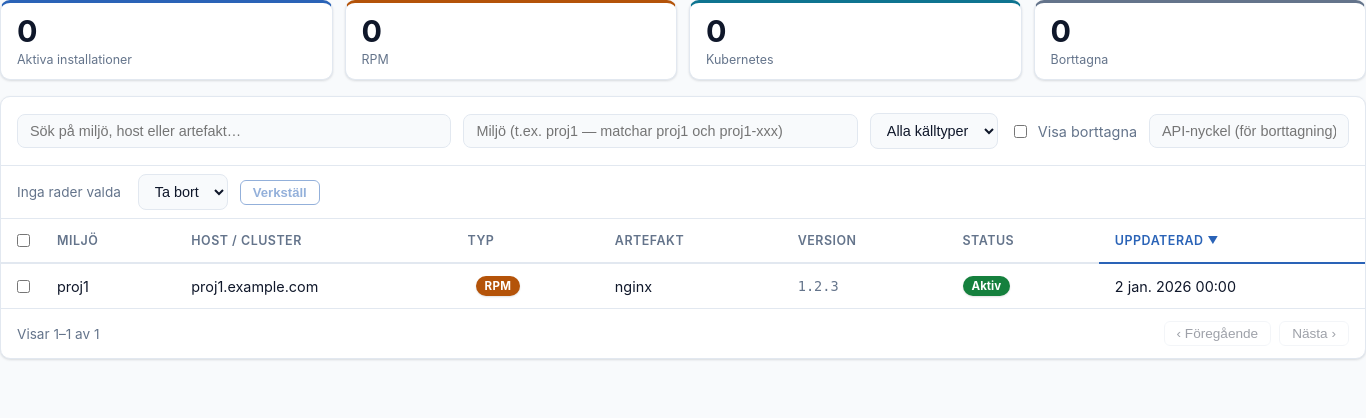
Test: InstallationsTable › requires an API key before allowing a delete
Expected: the text "nginx" is shown, x1=599 y1=263 x2=782 y2=308
Step 1. Click the checkbox named "Markera nginx i proj1" → click(24, 286), box x1=17 y1=280 x2=30 y2=293
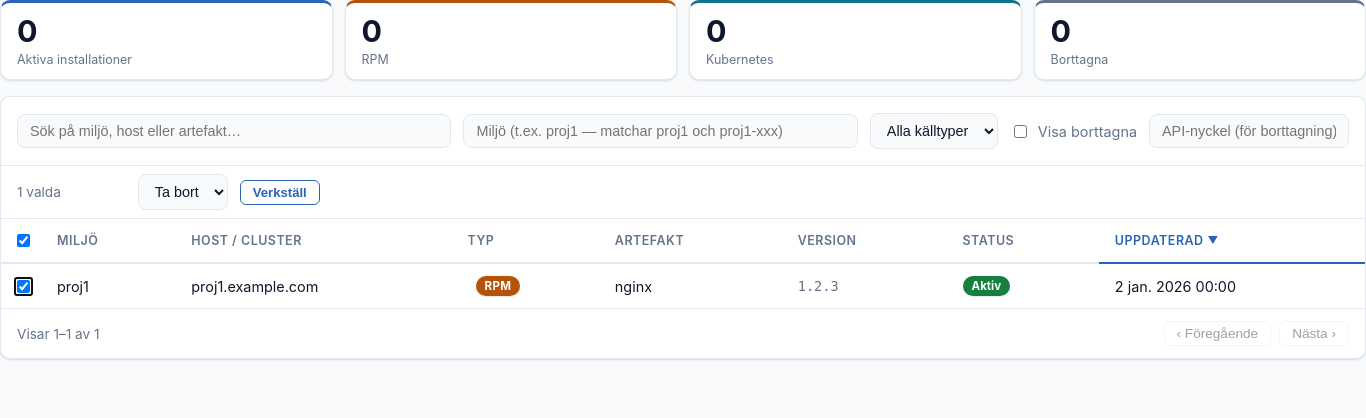
Step 2. Click the button "Verkställ" → click(280, 192), box x1=240 y1=180 x2=320 y2=205
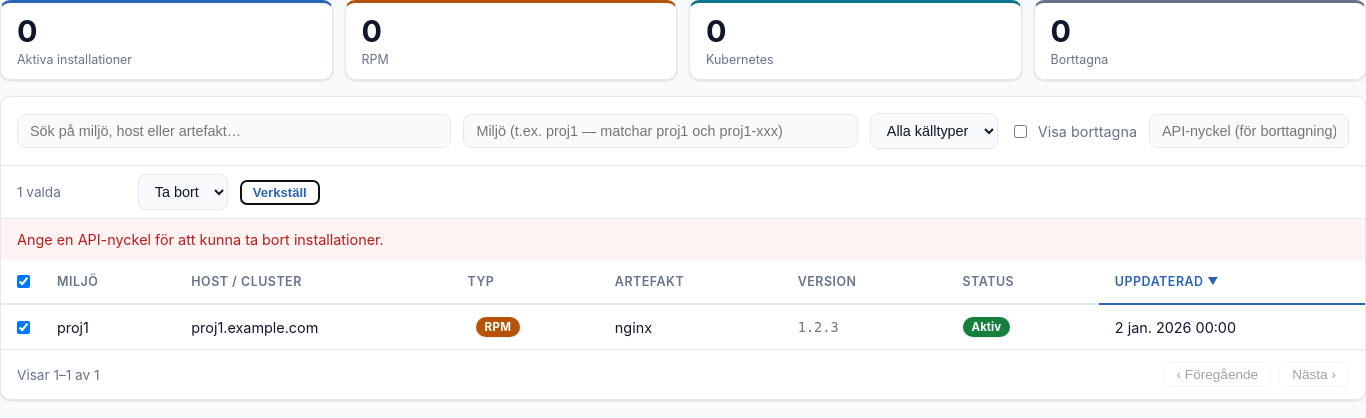
Expected: the text "Ange en API-nyckel för att kunna ta bort installationer." is shown, x1=1 y1=219 x2=1365 y2=260
